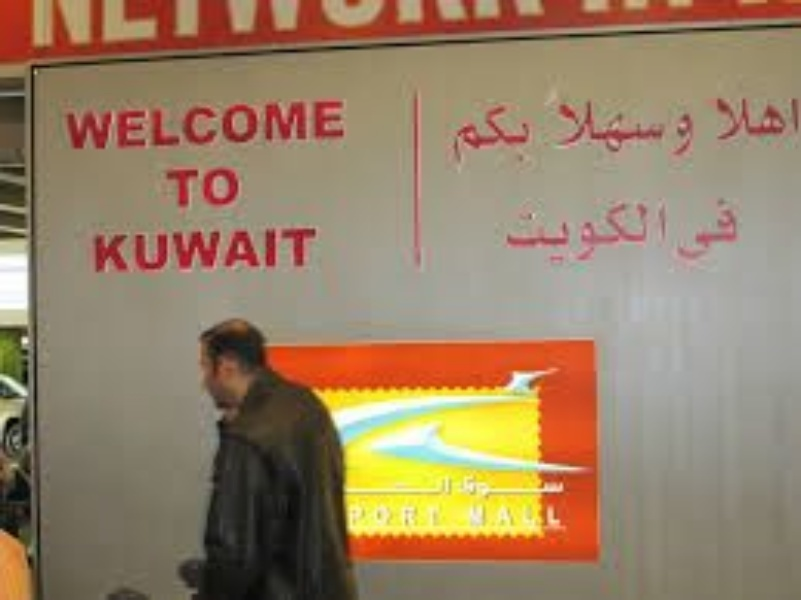text: (513, 195, 528, 270), (529, 195, 544, 270), (545, 195, 560, 270), (561, 195, 576, 270), (577, 195, 592, 270), (593, 195, 608, 270), (609, 195, 624, 270), (625, 195, 640, 270), (641, 195, 656, 270), (657, 195, 672, 270), (673, 189, 688, 263), (689, 189, 704, 263), (705, 189, 720, 263), (721, 189, 736, 263), (498, 195, 512, 270), (449, 99, 464, 168), (465, 99, 480, 168), (481, 99, 496, 168), (497, 99, 512, 168), (513, 99, 528, 168), (561, 93, 576, 161), (577, 93, 592, 161), (593, 93, 608, 161), (609, 93, 624, 161), (625, 93, 640, 161), (641, 93, 656, 161), (65, 93, 80, 158), (81, 93, 96, 158), (97, 93, 112, 158), (113, 93, 128, 158), (129, 93, 144, 158), (145, 93, 160, 158), (161, 93, 176, 158), (177, 93, 192, 158), (193, 93, 208, 158), (209, 93, 224, 158), (225, 93, 240, 158), (241, 93, 256, 158), (257, 93, 272, 158), (273, 93, 288, 158), (289, 93, 304, 158), (305, 93, 320, 158), (321, 93, 336, 158), (721, 90, 736, 146), (737, 90, 752, 146), (753, 90, 768, 146), (769, 90, 784, 146), (97, 223, 112, 279), (113, 223, 128, 279), (129, 223, 144, 279), (145, 223, 160, 279), (161, 223, 176, 279), (177, 223, 192, 279), (193, 223, 208, 279), (209, 223, 224, 279), (225, 223, 240, 279), (241, 223, 256, 279), (257, 223, 272, 279), (273, 223, 288, 279), (289, 223, 304, 279), (673, 106, 688, 161), (33, 1, 48, 56), (49, 1, 64, 56), (65, 1, 80, 56), (81, 1, 96, 56), (97, 1, 112, 56), (113, 1, 128, 56), (129, 1, 144, 56), (145, 1, 160, 56), (161, 1, 176, 56), (177, 1, 192, 56), (193, 1, 208, 56), (209, 1, 224, 56), (225, 1, 240, 56), (241, 1, 256, 56), (257, 1, 272, 56), (273, 1, 288, 56), (289, 1, 304, 56), (305, 1, 320, 56), (321, 1, 336, 56), (337, 1, 352, 56), (353, 1, 368, 56), (369, 1, 384, 56), (385, 1, 400, 56), (401, 1, 416, 56), (417, 1, 432, 56), (433, 1, 448, 56), (449, 1, 464, 56), (465, 1, 480, 56), (481, 1, 496, 56), (497, 1, 512, 56), (513, 1, 528, 56), (529, 1, 544, 56), (177, 161, 192, 214), (193, 161, 208, 214), (209, 161, 224, 214), (225, 161, 240, 214), (305, 223, 319, 279), (785, 90, 798, 146), (337, 93, 347, 158), (164, 161, 176, 214), (353, 498, 368, 536), (369, 498, 384, 536), (385, 498, 400, 536), (401, 498, 416, 536), (417, 498, 432, 536), (689, 106, 699, 161), (657, 93, 665, 161), (465, 498, 480, 529), (481, 498, 496, 529), (497, 498, 512, 529), (513, 498, 528, 529), (529, 498, 544, 529), (545, 498, 560, 529), (737, 189, 743, 263), (465, 471, 480, 498), (481, 471, 496, 498), (497, 471, 512, 498), (513, 471, 528, 498), (529, 471, 544, 498), (545, 471, 560, 498), (25, 1, 32, 56), (433, 498, 443, 536), (90, 223, 96, 279), (545, 1, 551, 56), (59, 93, 64, 158), (353, 474, 368, 495), (369, 474, 384, 495), (385, 474, 400, 495), (401, 474, 416, 495), (417, 474, 432, 495), (433, 474, 448, 495), (344, 498, 352, 536), (715, 90, 720, 146), (529, 99, 532, 168), (344, 474, 352, 495), (669, 106, 672, 161), (561, 498, 566, 529), (446, 99, 448, 168), (561, 471, 566, 498), (449, 474, 455, 495), (461, 498, 464, 529), (461, 471, 464, 498), (241, 161, 242, 214)
